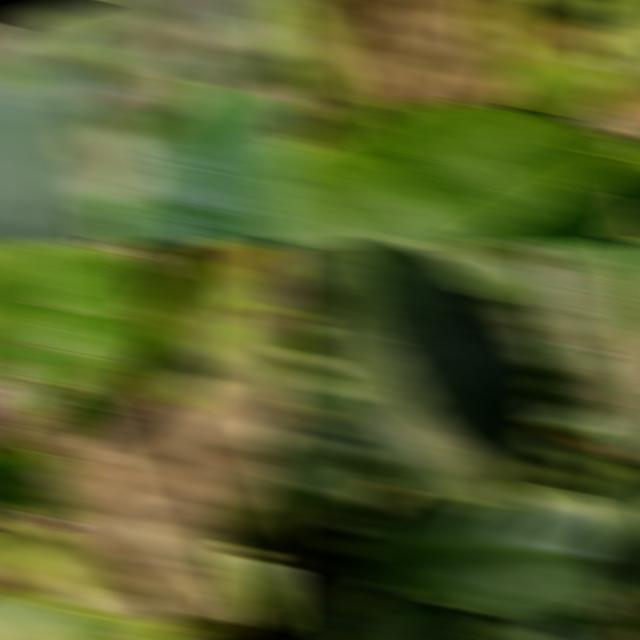Leaf: (314, 241, 554, 511), (270, 101, 640, 245), (0, 241, 167, 526), (342, 483, 640, 617), (106, 83, 292, 245), (139, 241, 292, 408), (531, 241, 640, 462), (0, 50, 109, 245), (270, 391, 377, 517), (270, 0, 357, 136), (217, 430, 292, 566), (492, 48, 620, 122), (0, 585, 167, 640), (591, 0, 640, 141), (222, 544, 292, 630), (471, 258, 554, 310), (472, 0, 528, 77), (285, 241, 364, 295), (522, 610, 631, 640), (392, 600, 473, 640), (515, 0, 600, 24)
